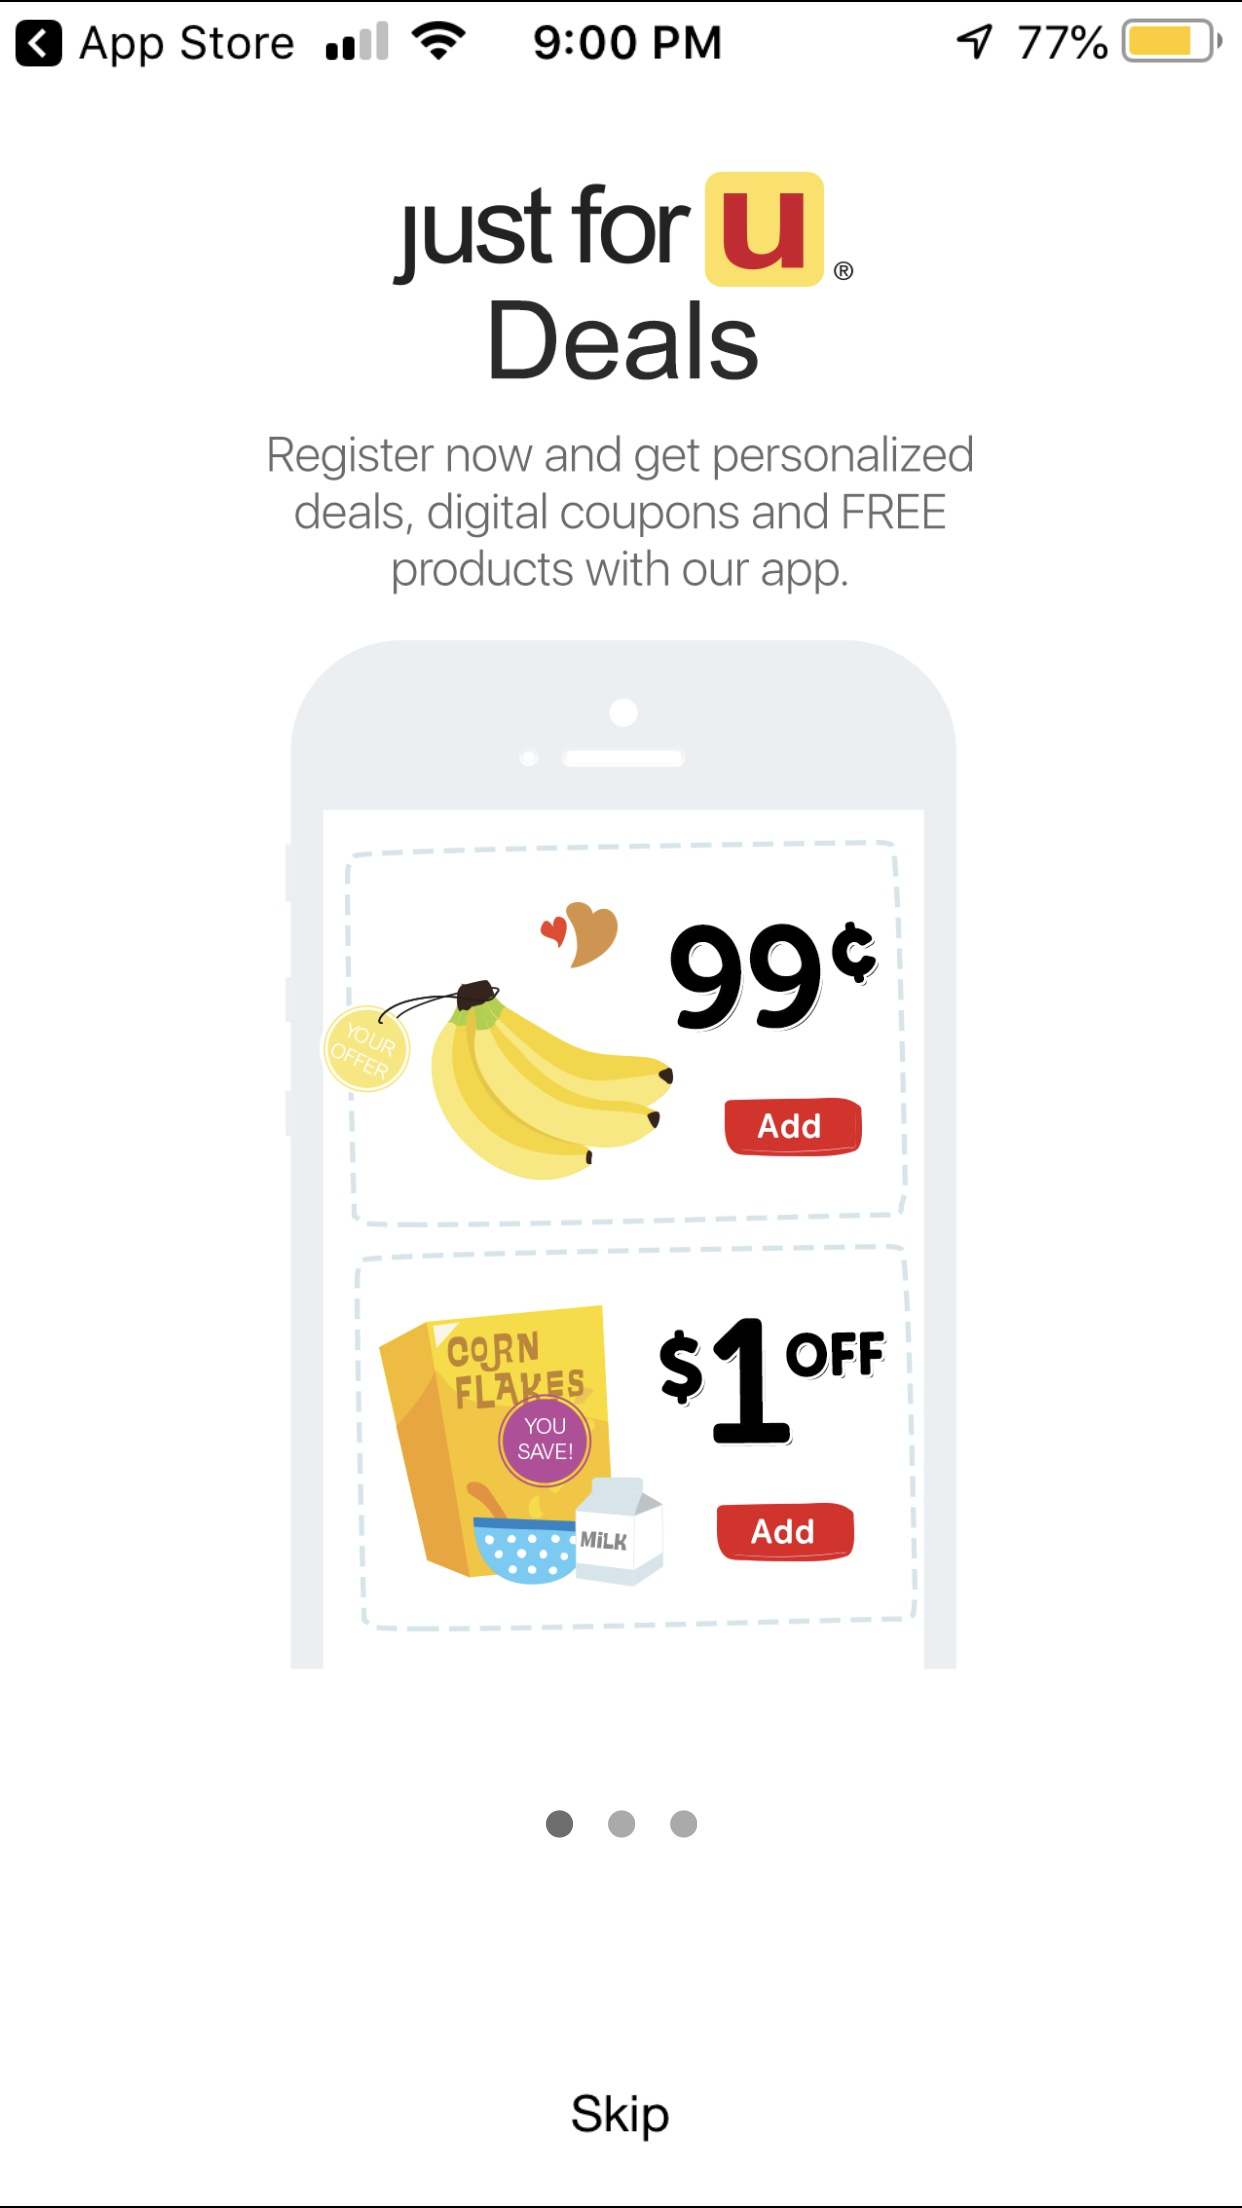Image: (287, 638, 958, 1670), (393, 171, 855, 384)
PageIndicator: (546, 1809, 699, 1839)
Text: (268, 434, 974, 596), (572, 2093, 670, 2143)
UpperTaskBar: (2, 2, 1242, 70)
